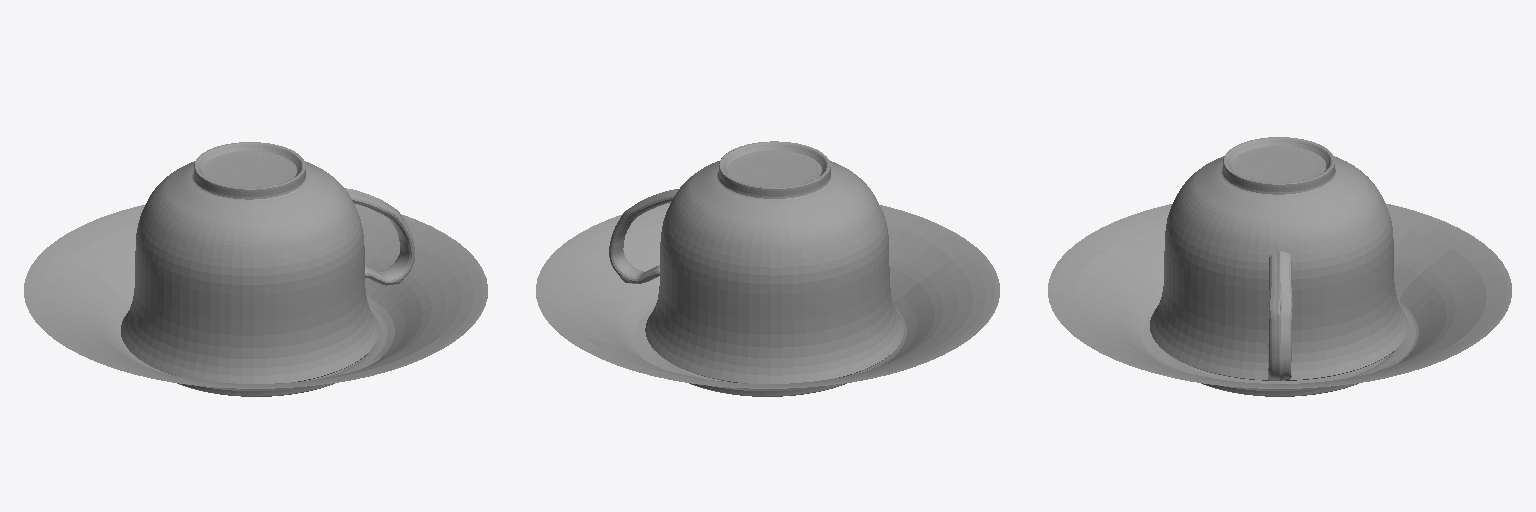
Rendered from XICARAFINAAAAAL.obj.
3 views of the same model, side by side, from view 1: azimuth 30°, elevation 25°; view 2: azimuth 150°, elevation 25°; view 3: azimuth 270°, elevation 25° (orthographic).
Parts seen in each view (by area): view 1: Cylinder, Cylinder.001, Cube.002_Cube.003; view 2: Cylinder, Cylinder.001, Cube.002_Cube.003; view 3: Cylinder, Cylinder.001, Cube.002_Cube.003.
Boxes of the visible parts, <box> form: Cylinder: <box>121,142,378,383</box>; Cylinder.001: <box>24,203,487,396</box>; Cube.002_Cube.003: <box>345,188,414,285</box>; Cylinder: <box>645,141,903,383</box>; Cylinder.001: <box>536,202,999,396</box>; Cube.002_Cube.003: <box>609,189,678,283</box>; Cylinder: <box>1150,137,1408,380</box>; Cylinder.001: <box>1048,204,1511,396</box>; Cube.002_Cube.003: <box>1267,251,1292,380</box>.
Size of the model in its own units: 9.94 by 4.36 by 9.94.